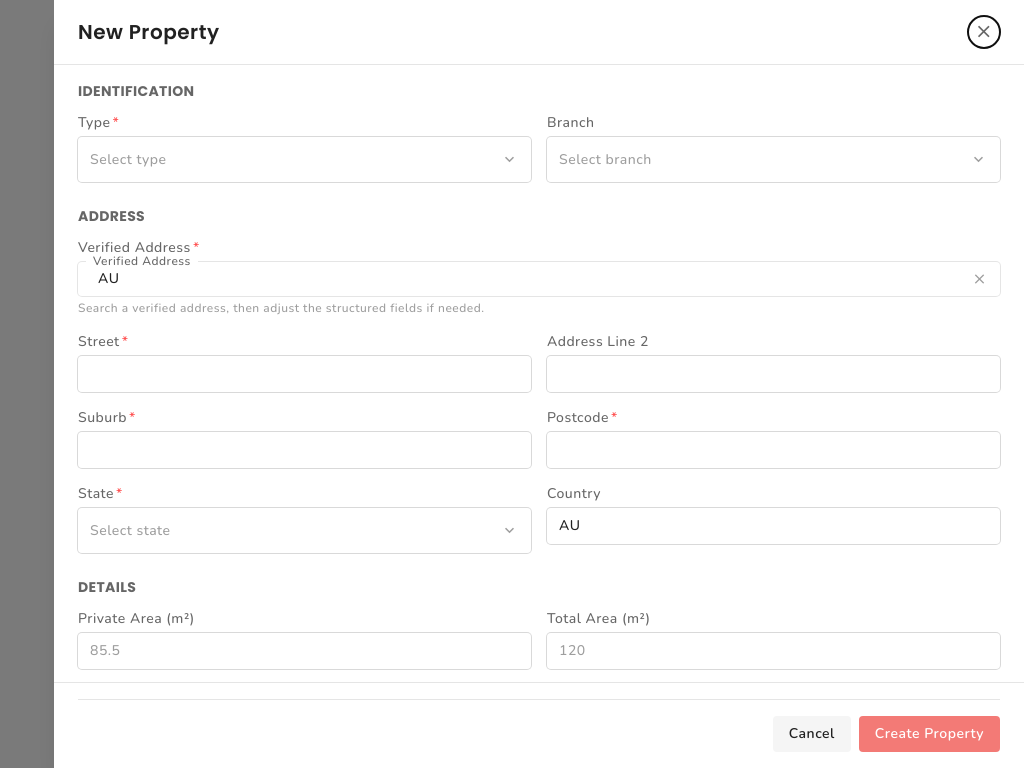
Test: PropertyFormDrawer › renders backend VALIDATION_ERROR details inline on the matching field
What coordinates should you click on to do the following:
click the button "Create Property"
I would click on:
 (929, 734)
Its box is [859,716,1000,752].
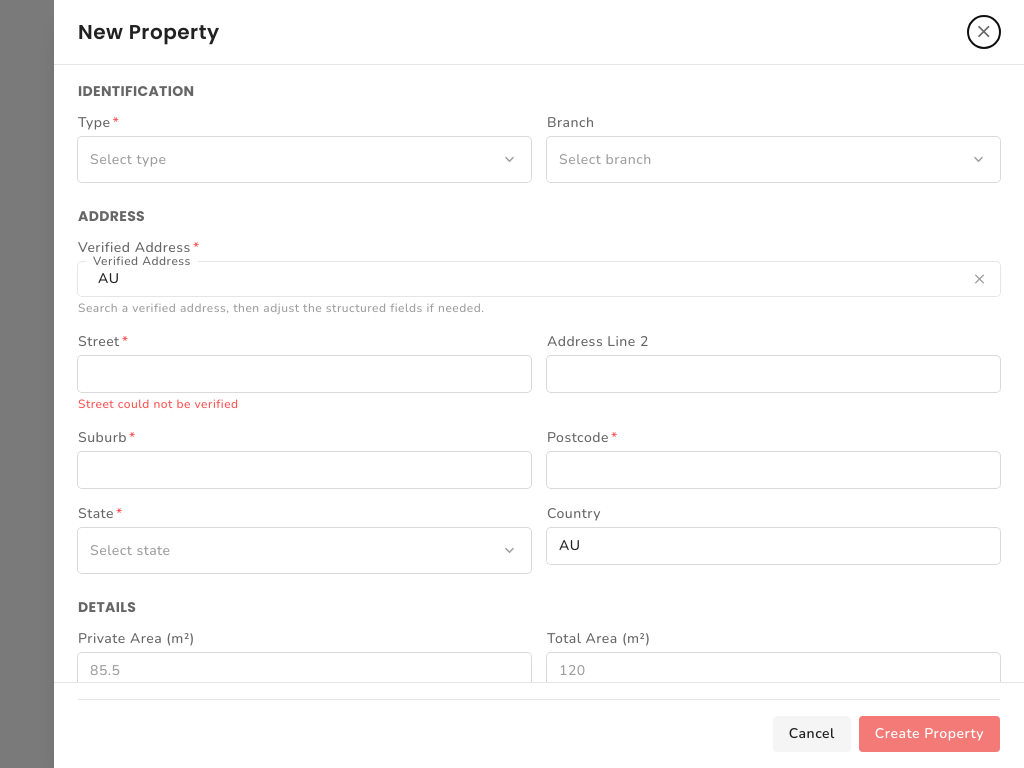
Expected: the text "Street could not be verified" is shown, [78,396,239,412]
